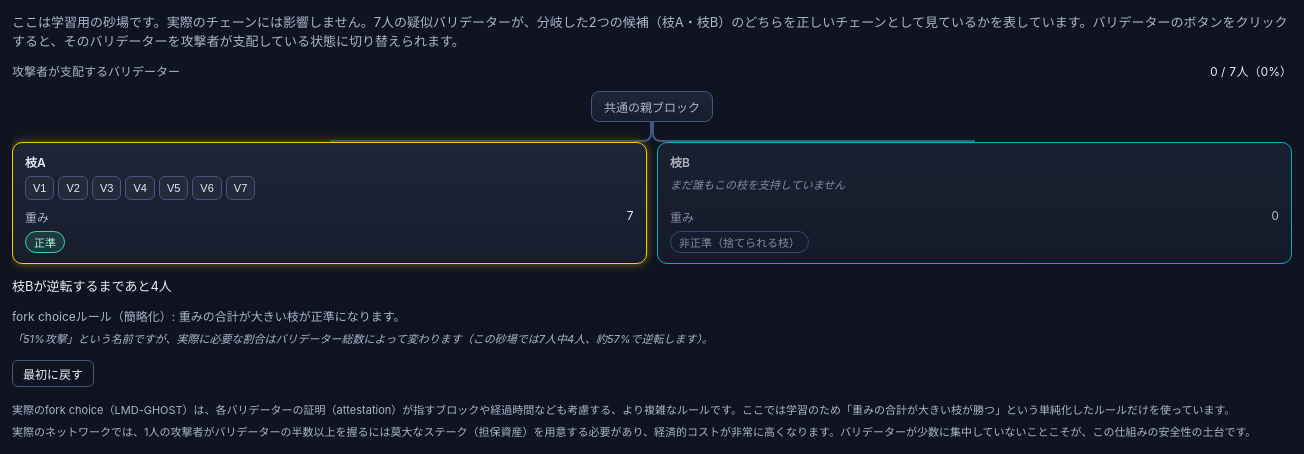
Test: FiftyOnePercentAttackDemoView: canonical branch flips at the 4-of-7 boundary › flips canonical to branch B once a 4th validator is turned (~57%)
This screenshot has width=1304, height=454.
Click the button with test id "attack51-demo-validator-1" at (40, 188), box [25,176,54,200]
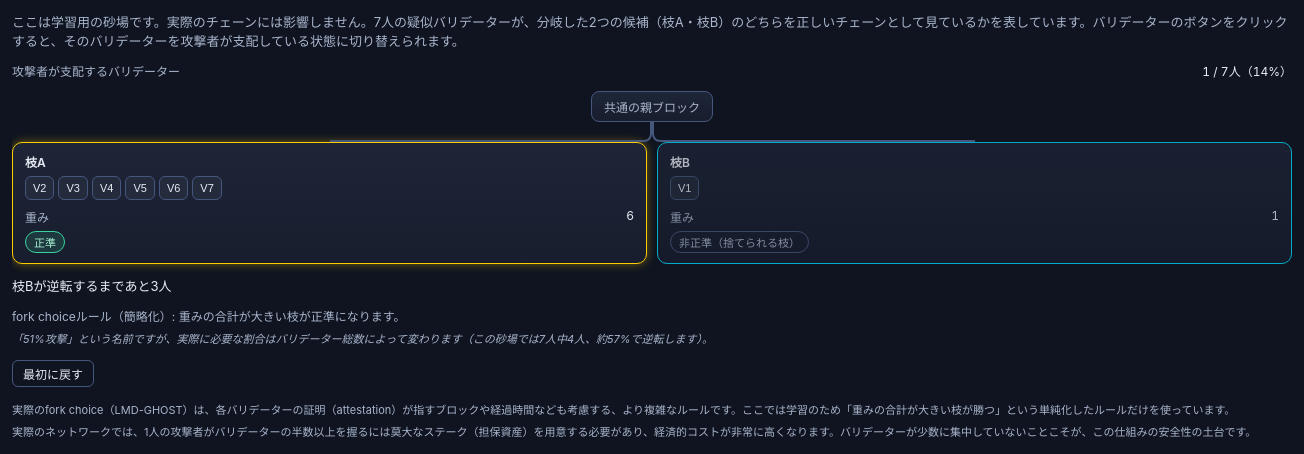
Click the button with test id "attack51-demo-validator-2" at (40, 188), box [25,176,54,200]
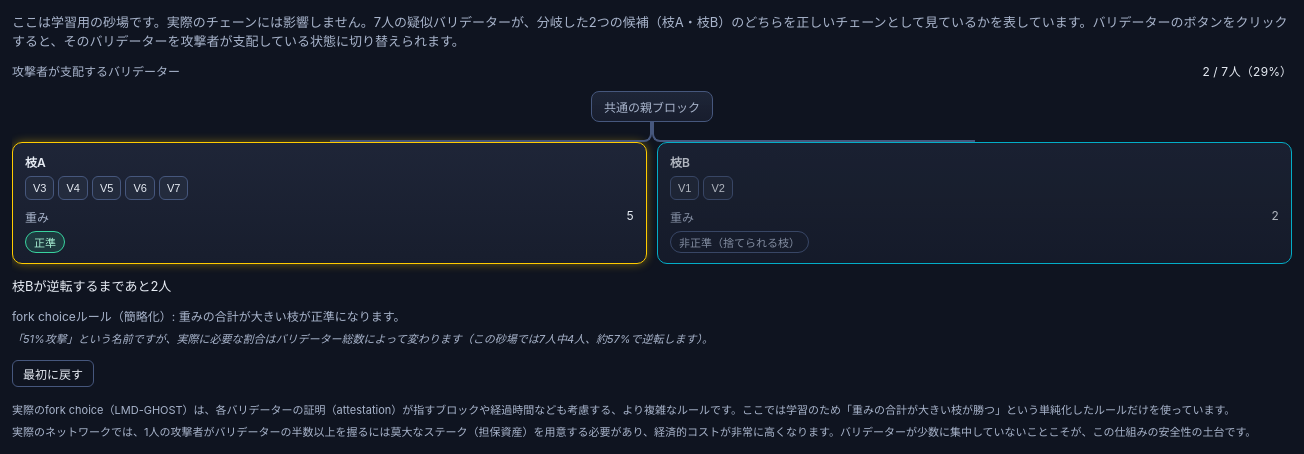
Click the button with test id "attack51-demo-validator-3" at (40, 188), box [25,176,54,200]
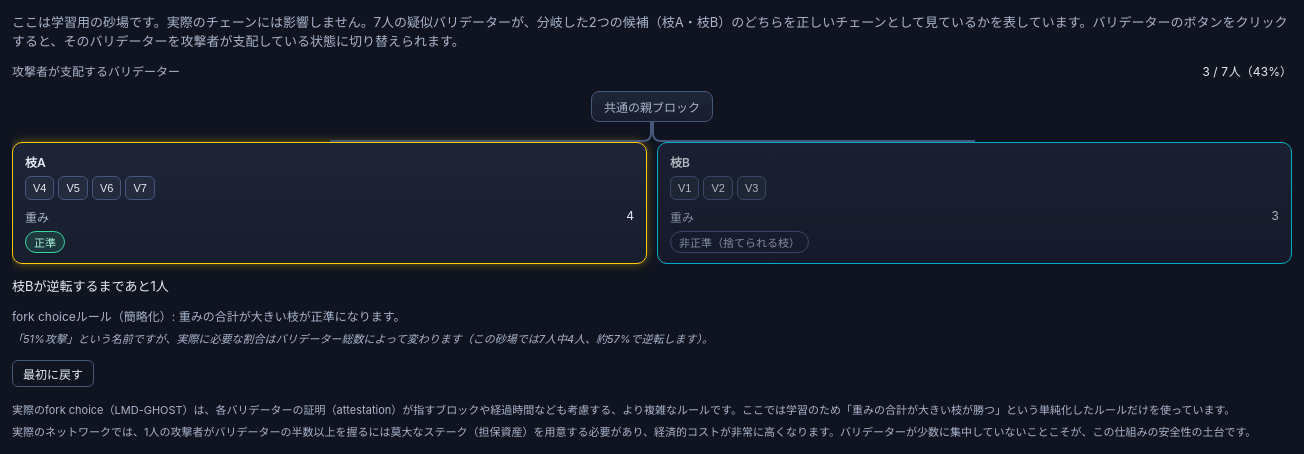
Click the button with test id "attack51-demo-validator-4" at (40, 188), box [25,176,54,200]
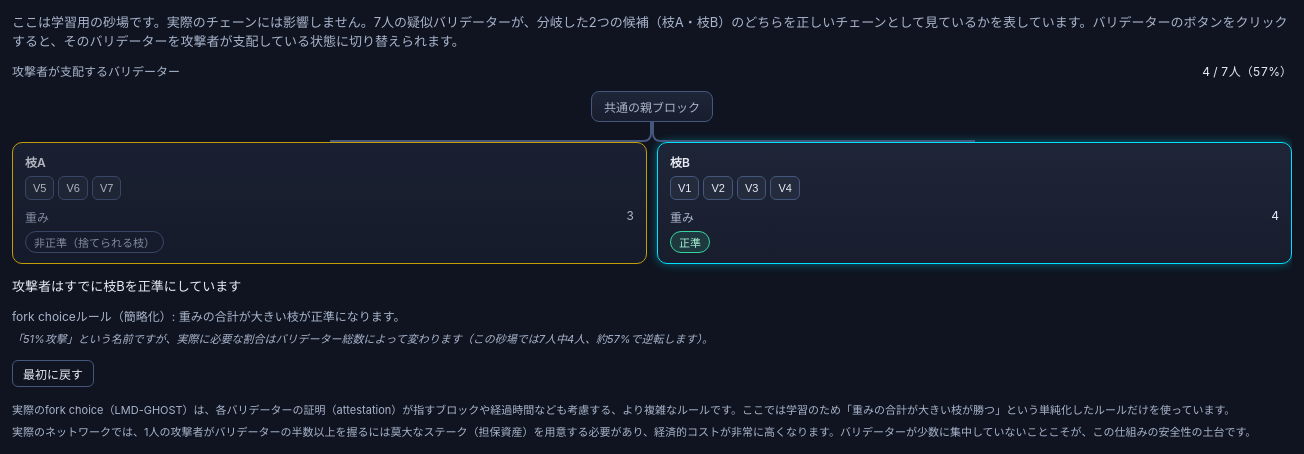
Expected: the text with test id "attack51-demo-branch-a-badge" reads "非正準（捨てられる枝）", [34,236,155,250]
Expected: the text with test id "attack51-demo-margin-hint" reads "攻撃者はすでに枝Bを正準にしています", [12,278,241,294]
